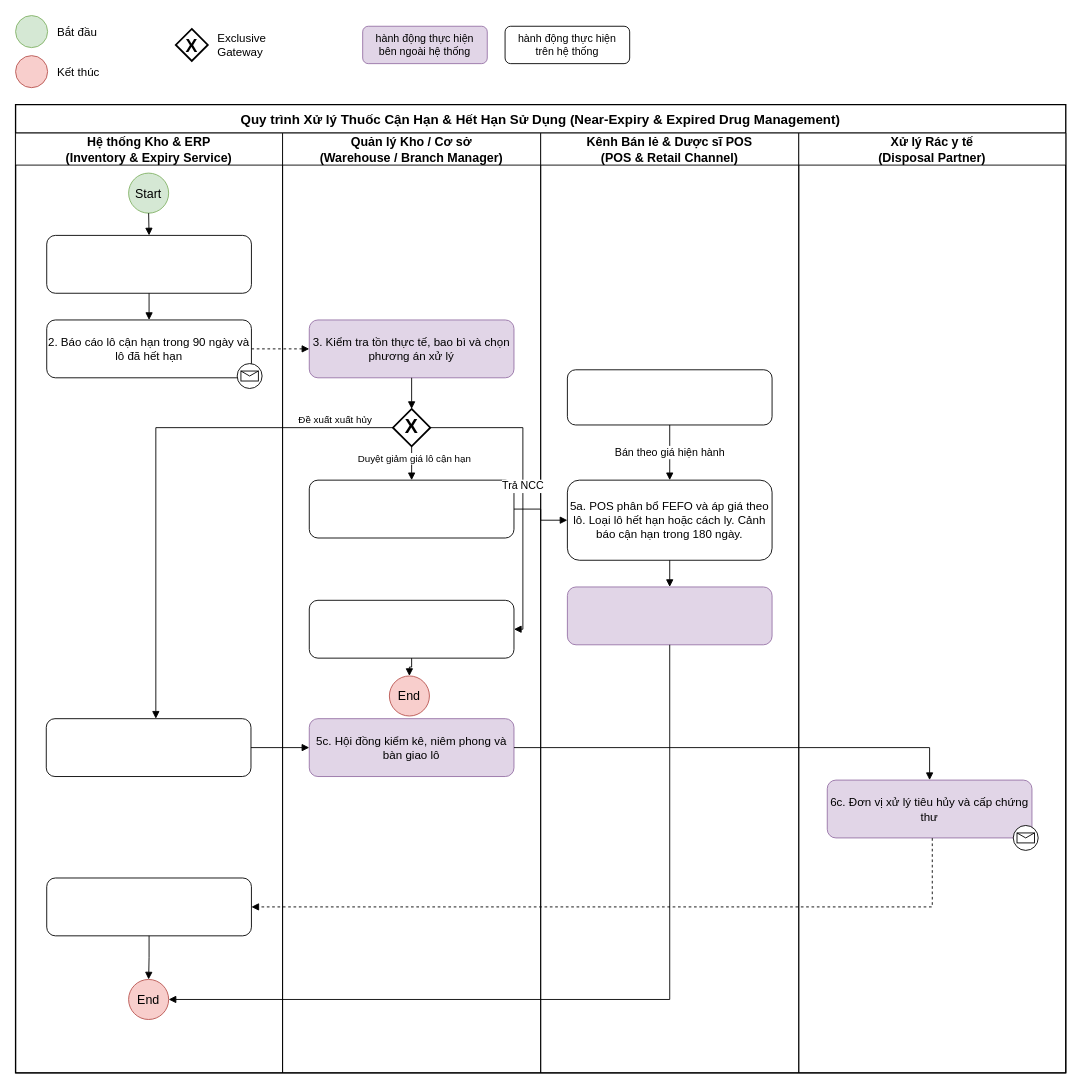
The diagram is 1087 pixels wide and 1089 high, and some of its shapes have lost their labels. The centre of each missing label's shape, as x and y in pixels:
"1. Rà soát hạn dùng theo chi nhánh và ID lô" goes at point (148, 264).
"4a. Quản lý duyệt giá giảm cho lô cận hạn đủ điều kiện" goes at point (411, 508).
"4b. Xử lý trả nhà cung cấp theo lô đã chọn" goes at point (411, 628).
"4c. Cách ly lô chờ hủy. POS loại lô hết hạn hoặc đã cách ly." goes at point (148, 747).
"6a. Dược sĩ tư vấn theo HSD và xuất hóa đơn" goes at point (669, 615).
"7c. Sau chứng thư, lập phiếu xuất hủy, ghi giảm tồn, hao hụt và audit" goes at point (148, 906).
"chứng thư hủy y tế" goes at point (1025, 837).
"danh sách cảnh báo lô" goes at point (249, 375).
"Lô còn hạn, ACTIVE và đủ tồn có thể bán, kể cả đúng ngày thứ 15." goes at point (669, 397).
